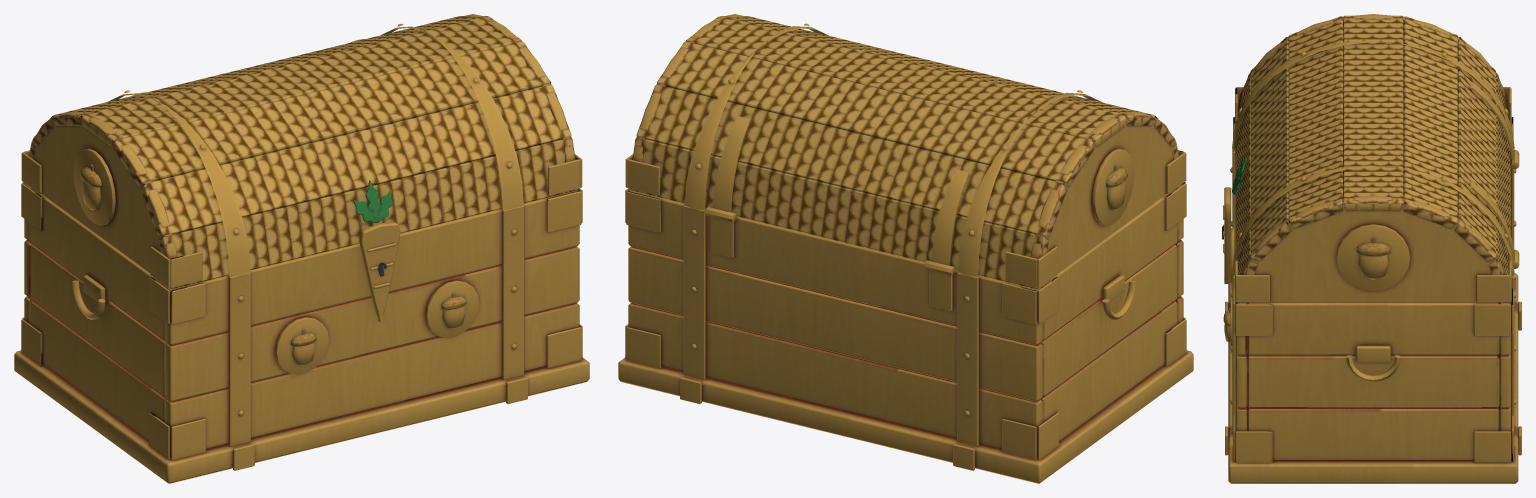
File: treasure_chest_golden.glb
The picture shows the model from 3 angles, left to right: view 1: azimuth 30°, elevation 25°; view 2: azimuth 150°, elevation 25°; view 3: azimuth 270°, elevation 25°; orthographic projection. The views are drawn at different scales.
Visible parts, largest first — view 1: treasure_chest_golden, Lid; view 2: treasure_chest_golden, Lid; view 3: Lid, treasure_chest_golden.
Part boxes in pixels (box(x1,y1,x2,y2)): treasure_chest_golden: box(14, 182, 589, 483); Lid: box(21, 14, 582, 323); treasure_chest_golden: box(618, 182, 1193, 483); Lid: box(625, 14, 1186, 289); Lid: box(1222, 14, 1514, 302); treasure_chest_golden: box(1223, 117, 1521, 483).
Bounding box in the file's own units: 0.9537 × 0.6394 × 0.6095.
Materials: 1 (1 with a texture image).
